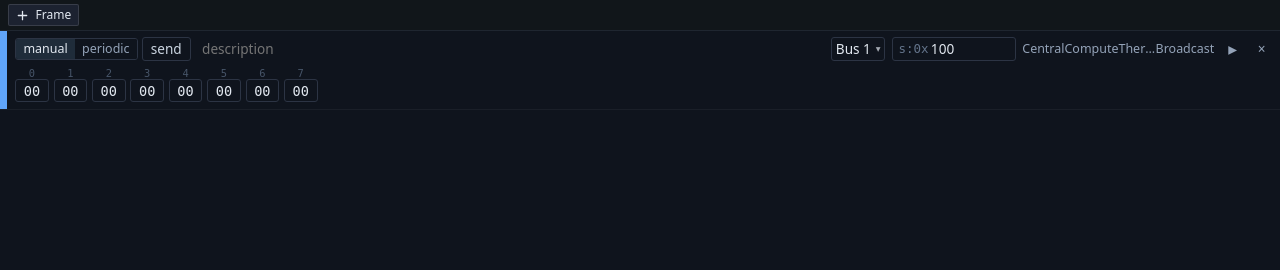
Test: TransmitPanel with long names › splits the message name on the row and the signal names in the table
Expected: the text with class "name-text-head" reads "CentralComputeThermalDerateAdvisory", [1022, 40, 1214, 57]
Expected: the text with class "name-text-tail" reads "Broadcast", [1156, 40, 1214, 57]
Step 1. Click the button titled "expand" → click(1233, 49), box [1221, 37, 1245, 61]
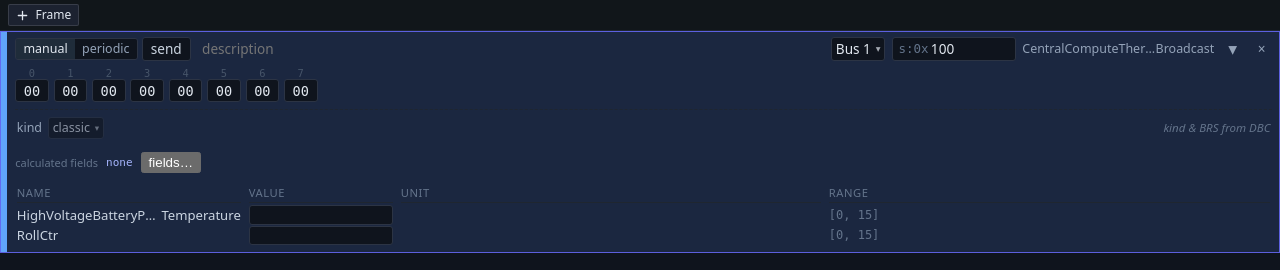
Now the text with class "name-text-head" reads "HighVoltageBatteryPackCoolantInlet", box [17, 206, 241, 224]
Now the text with class "name-text-tail" reads "Temperature", box [161, 206, 241, 224]
Now the element with class "name-text" reads "HighVoltageBatteryPackCoolantInlet Temperature", box [17, 206, 241, 224]
